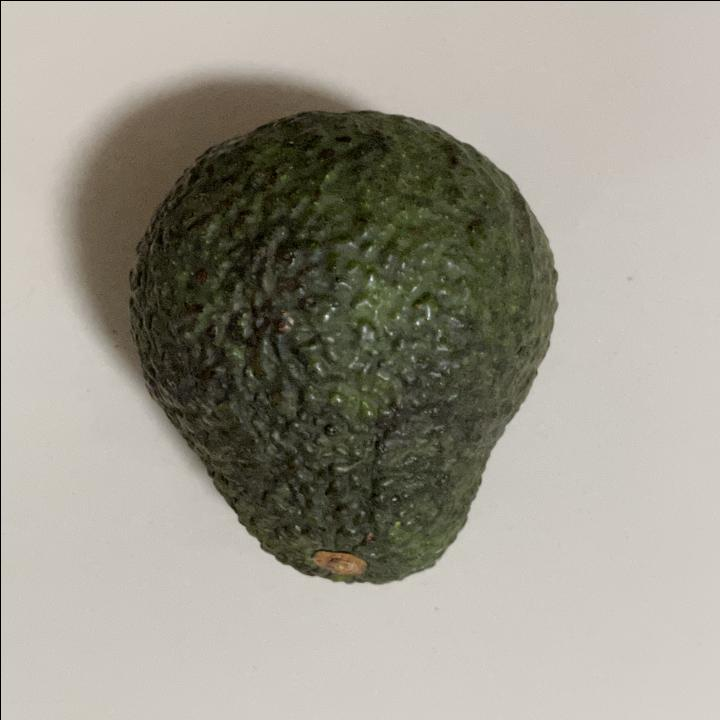Level1: (88, 91, 586, 620)
